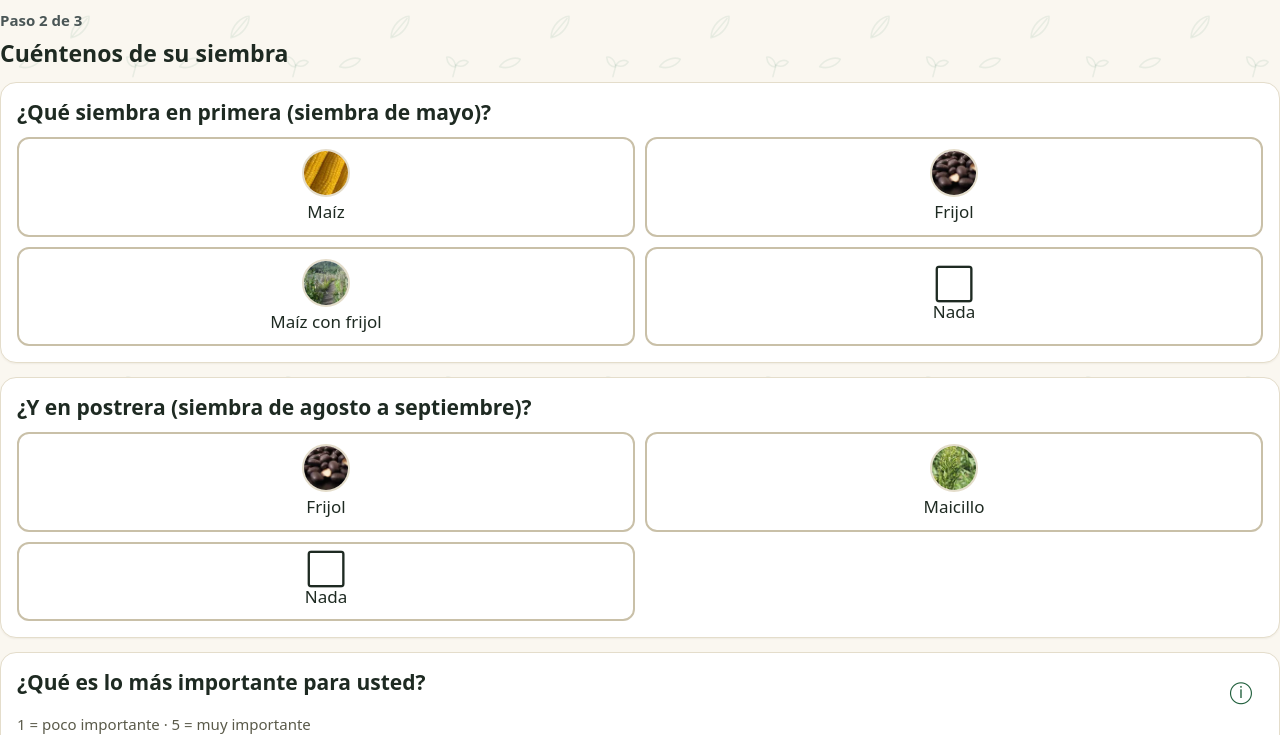
Test: form -> comparison sends the answers from the URL as the request
The image size is (1280, 735).
expect the heading "¿Qué siembra en primera (siembra de mayo)?" is shown: met, box [17, 98, 491, 126]
Click the button "Maíz". click: (326, 187)
box: [17, 137, 635, 236]
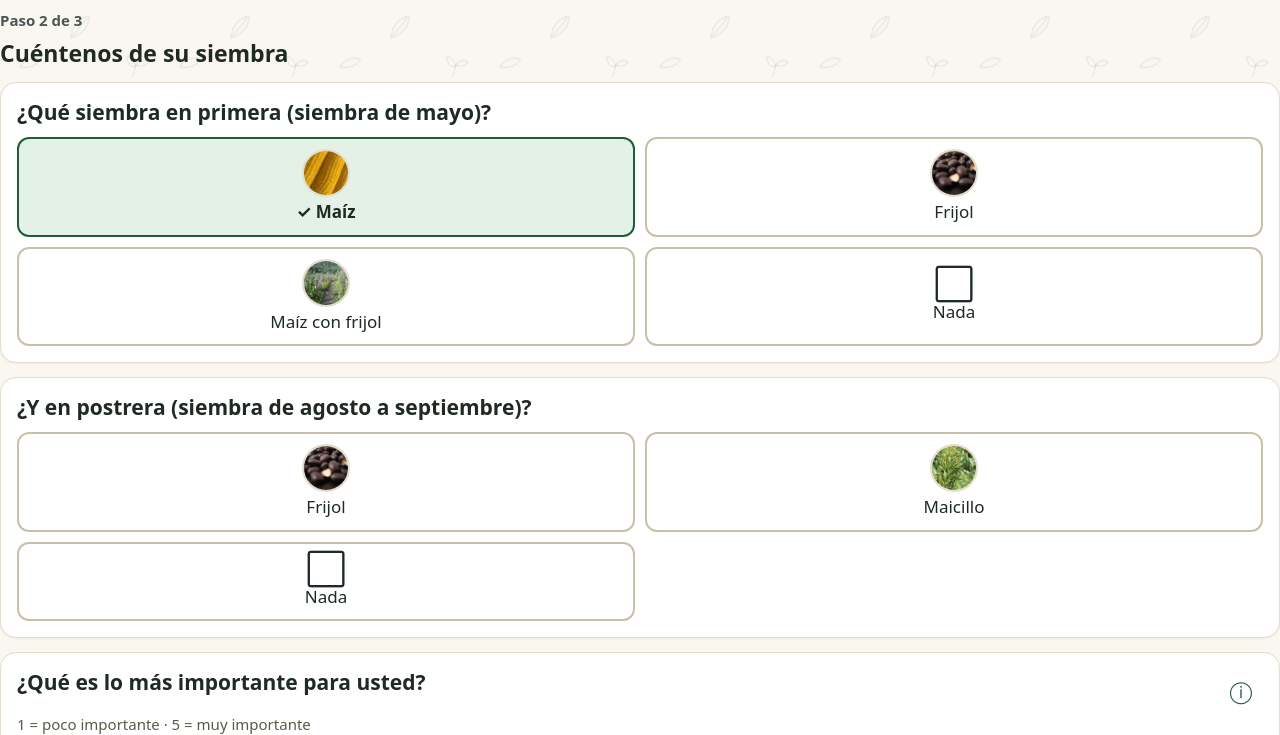
Click the 2nd button "Frijol". click: (326, 482)
box: [17, 432, 635, 532]
(page scrolled)
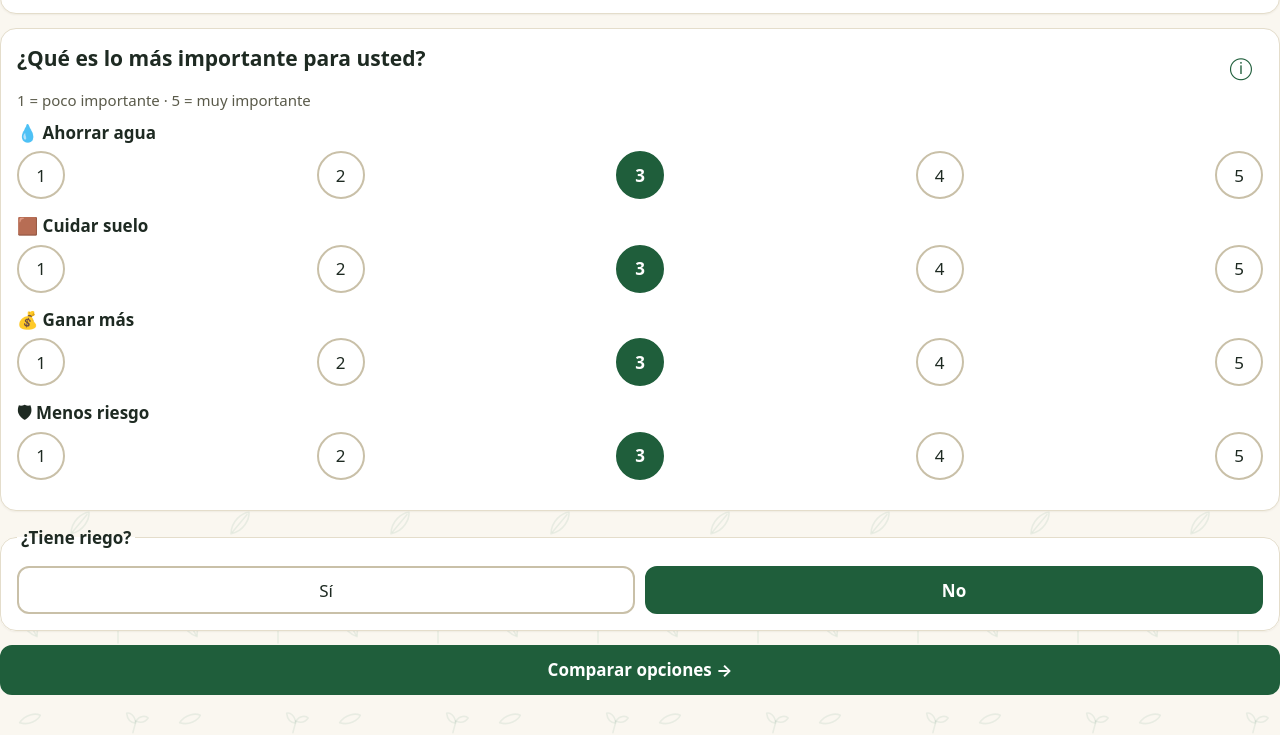
Click the button "Comparar opciones →". click: (640, 670)
box: [0, 645, 1279, 695]
(page scrolled)
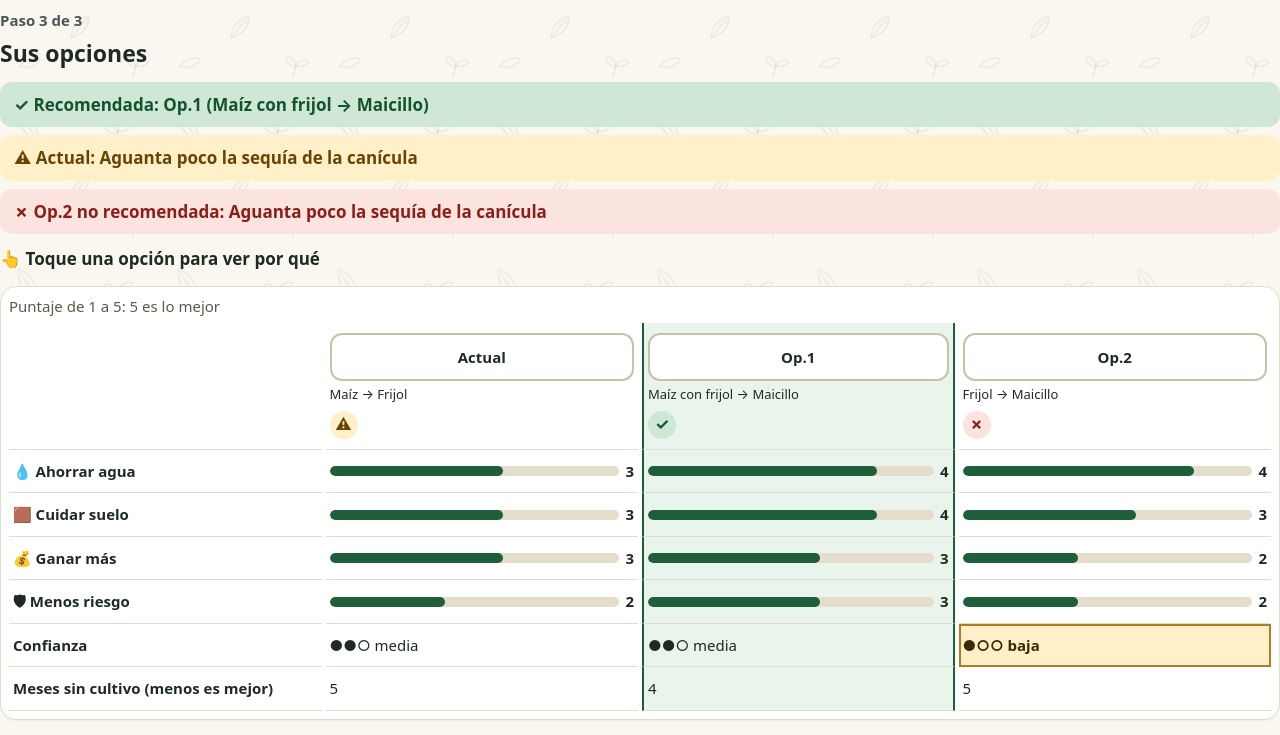
expect the button "Op.1" is shown: met, box [648, 333, 948, 381]
